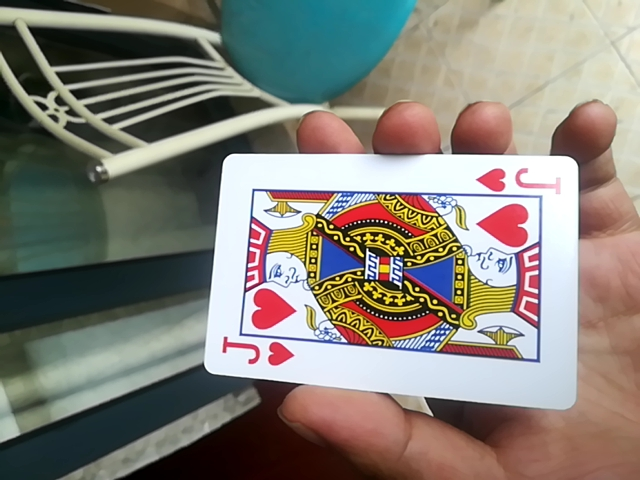hx j: (201, 151, 581, 412)
